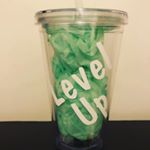cups: (29, 4, 134, 150)
